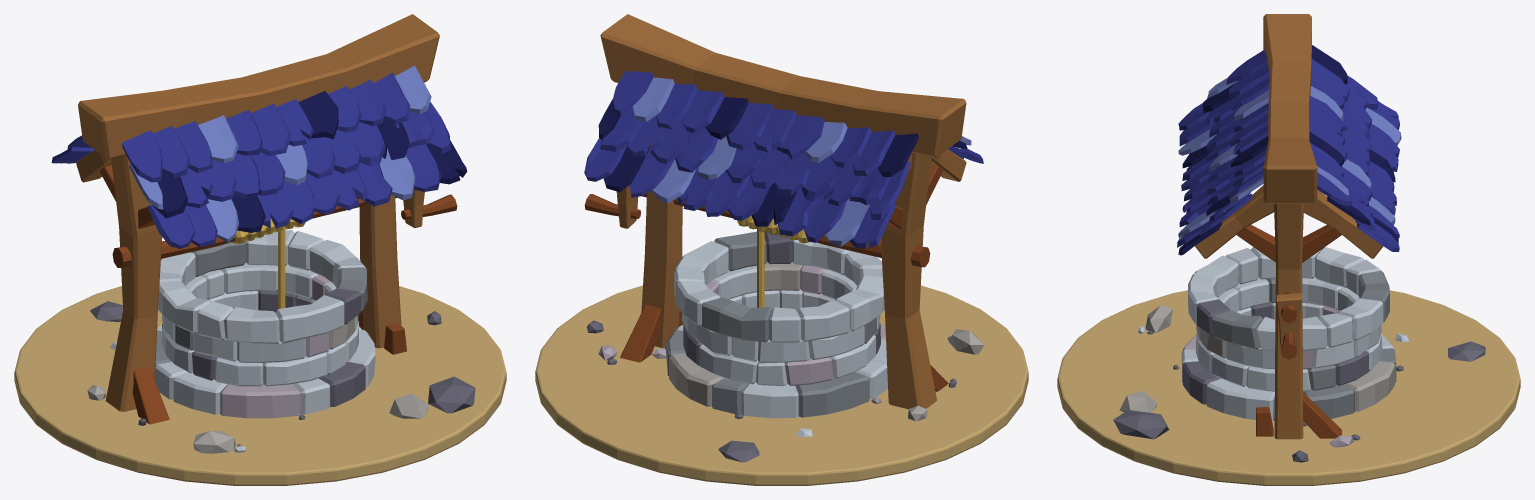
File: Well.fbx
The picture shows the model from 3 angles, left to right: view 1: azimuth 30°, elevation 25°; view 2: azimuth 150°, elevation 25°; view 3: azimuth 270°, elevation 25°; orthographic projection. The views are drawn at different scales.
Parts seen in each view (by area): view 1: Base, Plane.002, Cube.006, Cube.005, Cube.004, Cube.064, Cube.031, Cube.030, Cube.028, Cube.063, Cube.053, Cube.022 (+33 smaller); view 2: Base, Plane.003, Cube.006, Cube.005, Cube.004, Cube.061, Cube.025, Cube.060, Cube.027, Cube.058, Cube.028, Cube.018 (+29 smaller); view 3: Base, Plane.003, Plane.002, Cube.006, Cube.004, Cube.055, Cube.008, Cube.013, Cube.058, Cube.021, Cube.022, Cube.027 (+27 smaller).
Boxes of the visible parts, x1,y1,x2,y2 form: Base: [14, 286, 506, 485]; Plane.002: [122, 65, 467, 248]; Cube.006: [78, 14, 439, 159]; Cube.005: [105, 155, 162, 411]; Cube.004: [359, 195, 401, 348]; Cube.064: [220, 383, 301, 418]; Cube.031: [275, 295, 344, 343]; Cube.030: [223, 307, 279, 344]; Cube.028: [158, 280, 210, 333]; Cube.063: [173, 372, 227, 414]; Cube.053: [263, 352, 327, 386]; Cube.022: [309, 240, 365, 287]; Base: [535, 285, 1028, 485]; Plane.003: [584, 71, 918, 248]; Cube.006: [600, 14, 966, 157]; Cube.005: [880, 153, 937, 409]; Cube.004: [641, 190, 682, 347]; Cube.061: [795, 372, 869, 417]; Cube.025: [702, 297, 771, 342]; Cube.060: [741, 382, 798, 418]; Cube.027: [797, 300, 849, 341]; Cube.058: [669, 353, 723, 406]; Cube.028: [835, 278, 884, 331]; Cube.018: [620, 304, 661, 362]; Base: [1057, 290, 1520, 485]; Plane.003: [1309, 45, 1401, 251]; Plane.002: [1177, 49, 1269, 255]; Cube.006: [1263, 14, 1317, 203]; Cube.004: [1274, 203, 1303, 439]; Cube.055: [1207, 378, 1274, 420]; Cube.008: [1195, 185, 1274, 258]; Cube.013: [1303, 190, 1383, 258]; Cube.058: [1343, 361, 1394, 411]; Cube.021: [1212, 310, 1262, 349]; Cube.022: [1255, 316, 1327, 350]; Cube.027: [1315, 247, 1363, 287].
Size of the model in its own units: 3236 by 2330 by 3254.
